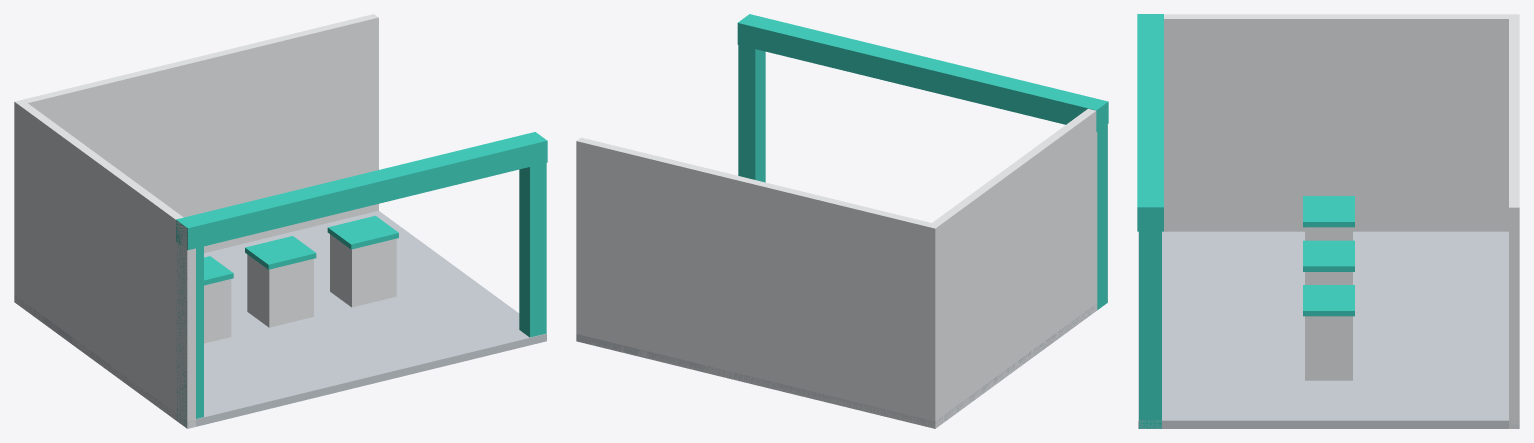
The picture shows the model from 3 angles, left to right: view 1: azimuth 30°, elevation 25°; view 2: azimuth 150°, elevation 25°; view 3: azimuth 270°, elevation 25°; orthographic projection. The views are drawn at different scales.
Parts seen in each view (by area): view 1: Exhibition Booth Concept; view 2: Exhibition Booth Concept; view 3: Exhibition Booth Concept.
Boxes of the visible parts, box(x1,y1,x2,y2) form: Exhibition Booth Concept: box(14, 14, 547, 428); Exhibition Booth Concept: box(576, 14, 1108, 428); Exhibition Booth Concept: box(1137, 14, 1519, 428).
Bounding box in the file's own units: 6 × 3.2 × 5.02.
